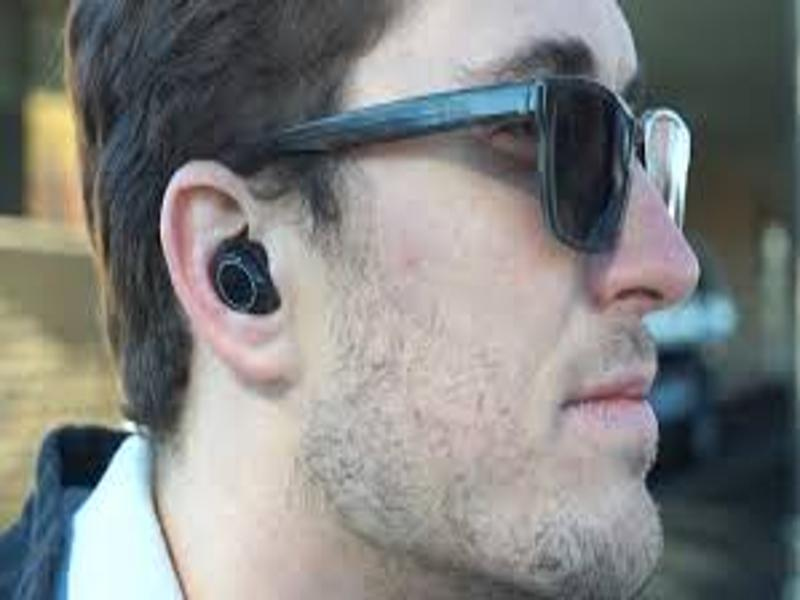headphone: (210, 236, 279, 319)
